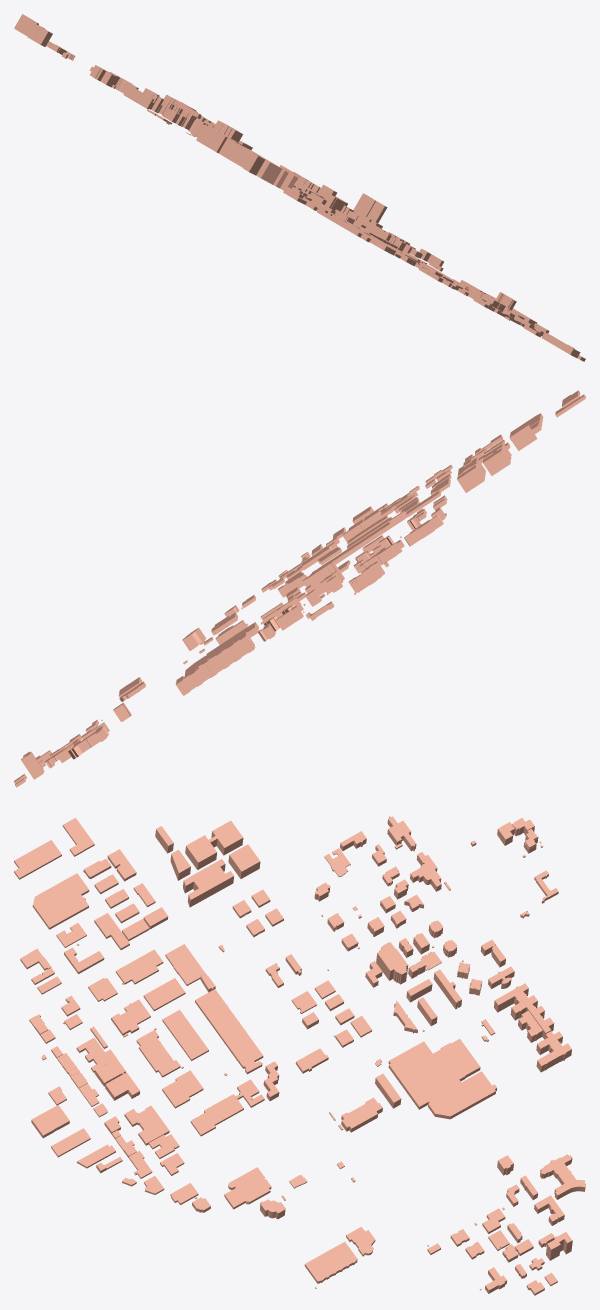
The picture shows the model from 3 angles, top to bottom: view 1: azimuth 30°, elevation 25°; view 2: azimuth 150°, elevation 25°; view 3: azimuth 270°, elevation 25°; orthographic projection. The views are drawn at different scales.
Size of the model in its own units: 966 by 775 by 1297.
